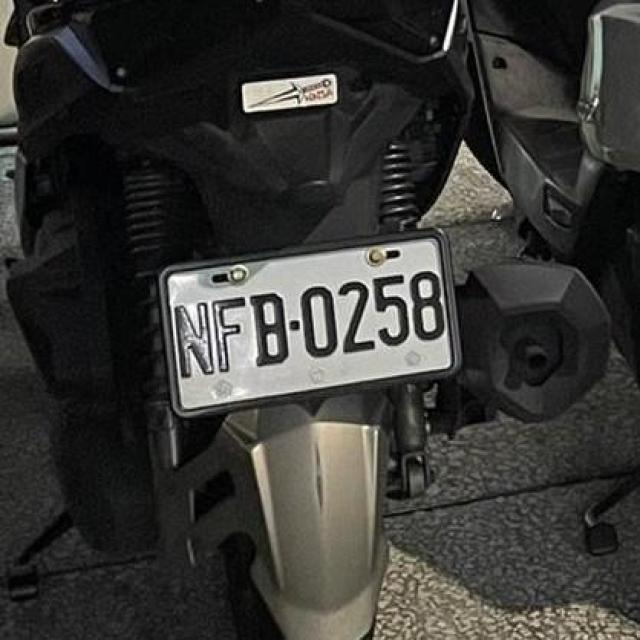W: (152, 225, 462, 410)
